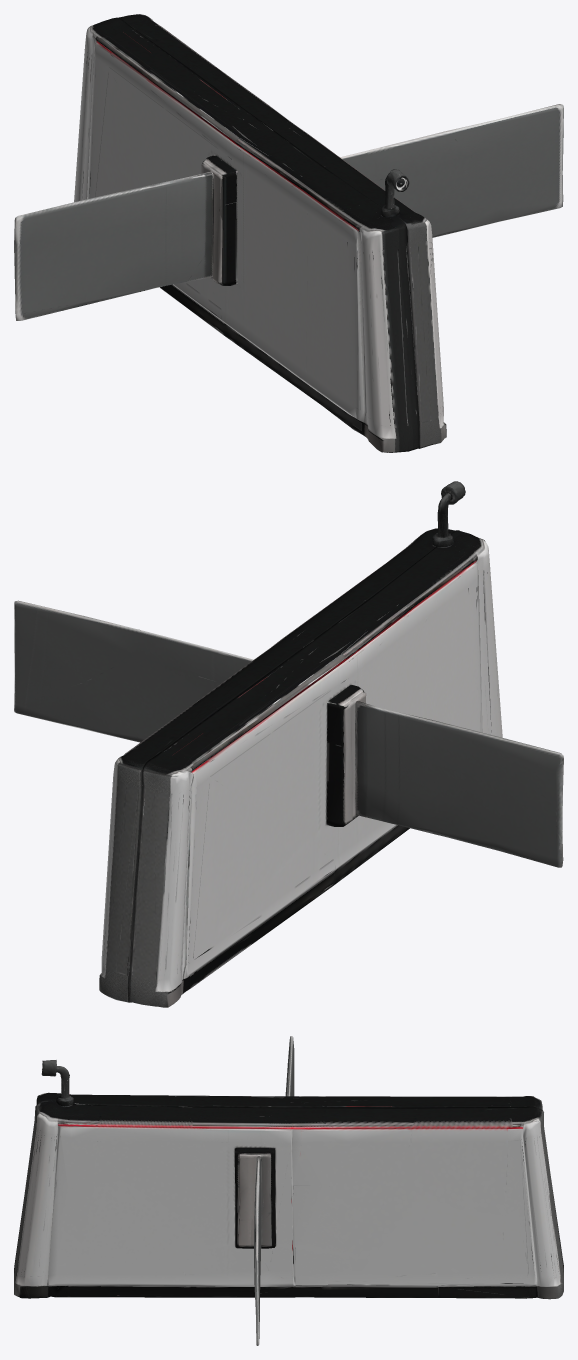
File: meshy-t2.glb
3 renders of one model, top to bottom at view 1: azimuth 30°, elevation 25°; view 2: azimuth 150°, elevation 25°; view 3: azimuth 270°, elevation 25°, orthographic. The views are drawn at different scales.
Bounding box in the file's own units: 0.9561 × 0.4544 × 1.
1 material, 1 textured.
